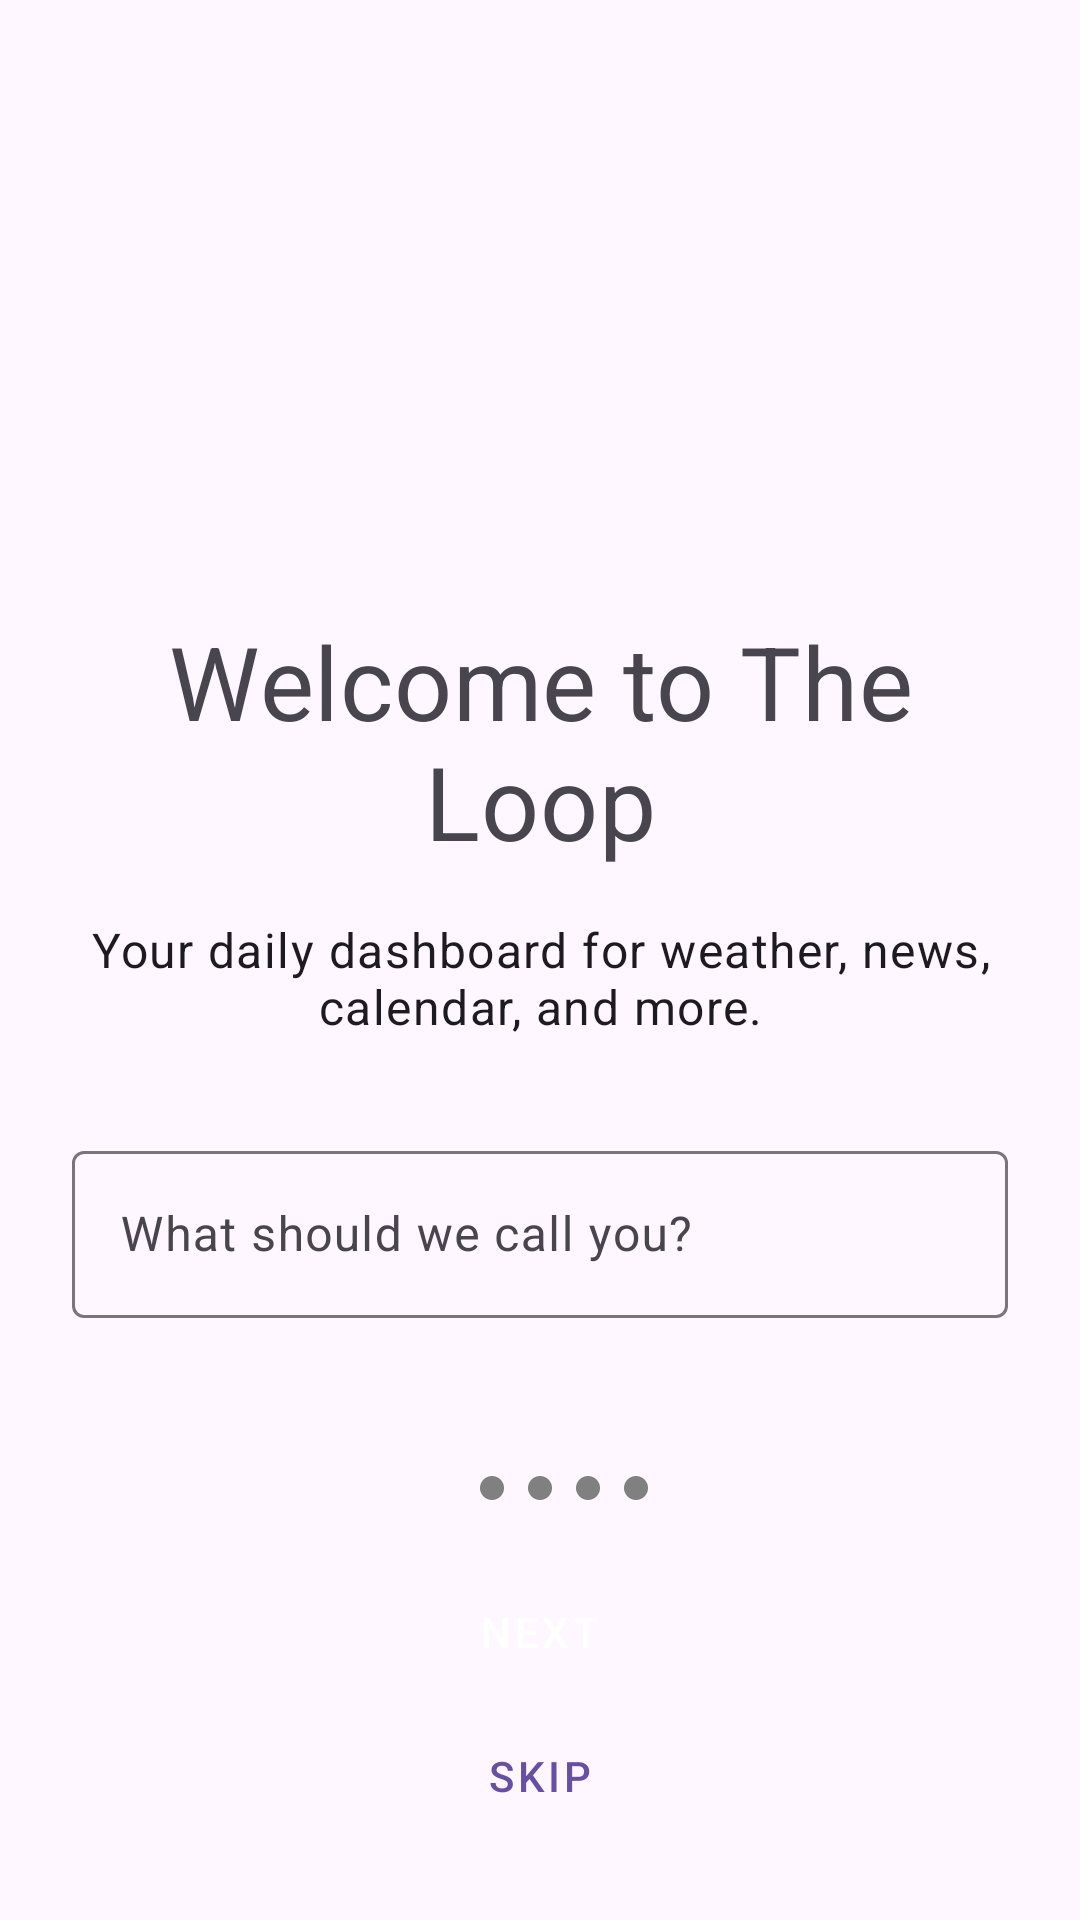

Screen size 1080 x 1920. Icon name, then its center in pixels as point (x, y):
dot: point (492, 1488), point (540, 1488), point (588, 1488), point (636, 1488)
